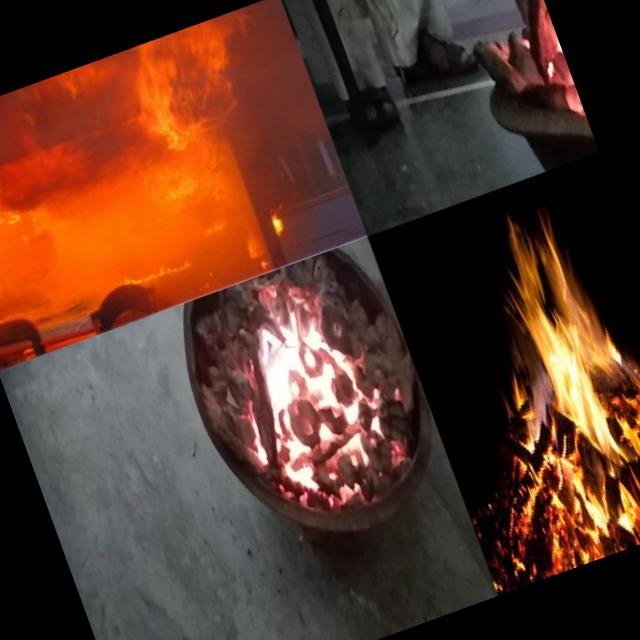fire: (433, 173, 640, 558), (0, 25, 269, 318), (192, 239, 444, 531)
